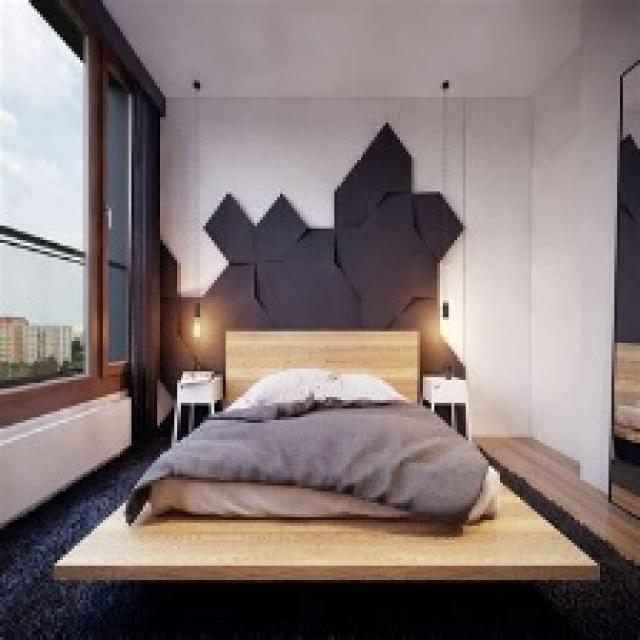Bed: (52, 328, 597, 583)
